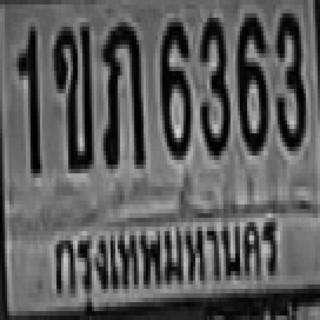A02: (52, 22, 92, 169)
A32: (100, 18, 142, 164)
N01: (16, 22, 38, 173)
N03: (273, 9, 304, 147), (198, 13, 228, 151)
N06: (235, 9, 266, 151), (159, 18, 189, 156)
P04: (42, 209, 282, 298)
